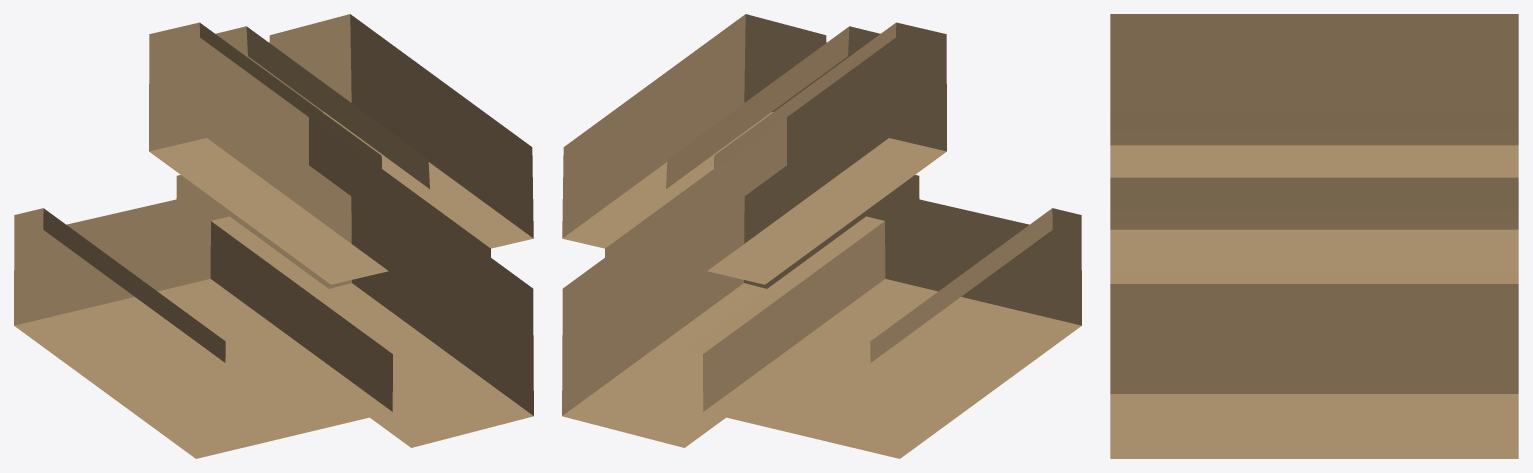
3 views of the same model, side by side, from view 1: azimuth 30°, elevation 25°; view 2: azimuth 150°, elevation 25°; view 3: azimuth 270°, elevation 25° (orthographic). The views are drawn at different scales.
Parts seen in each view (by area): view 1: 0_3_2_2_3_0_1; view 2: 0_3_2_2_3_0_1; view 3: 0_3_2_2_3_0_1.
Boxes of the visible parts, <box> form: 0_3_2_2_3_0_1: <box>14,14,533,458</box>; 0_3_2_2_3_0_1: <box>562,14,1081,458</box>; 0_3_2_2_3_0_1: <box>1110,14,1518,458</box>.
Bounding box in the file's own units: 32.15 × 27.28 × 30.
